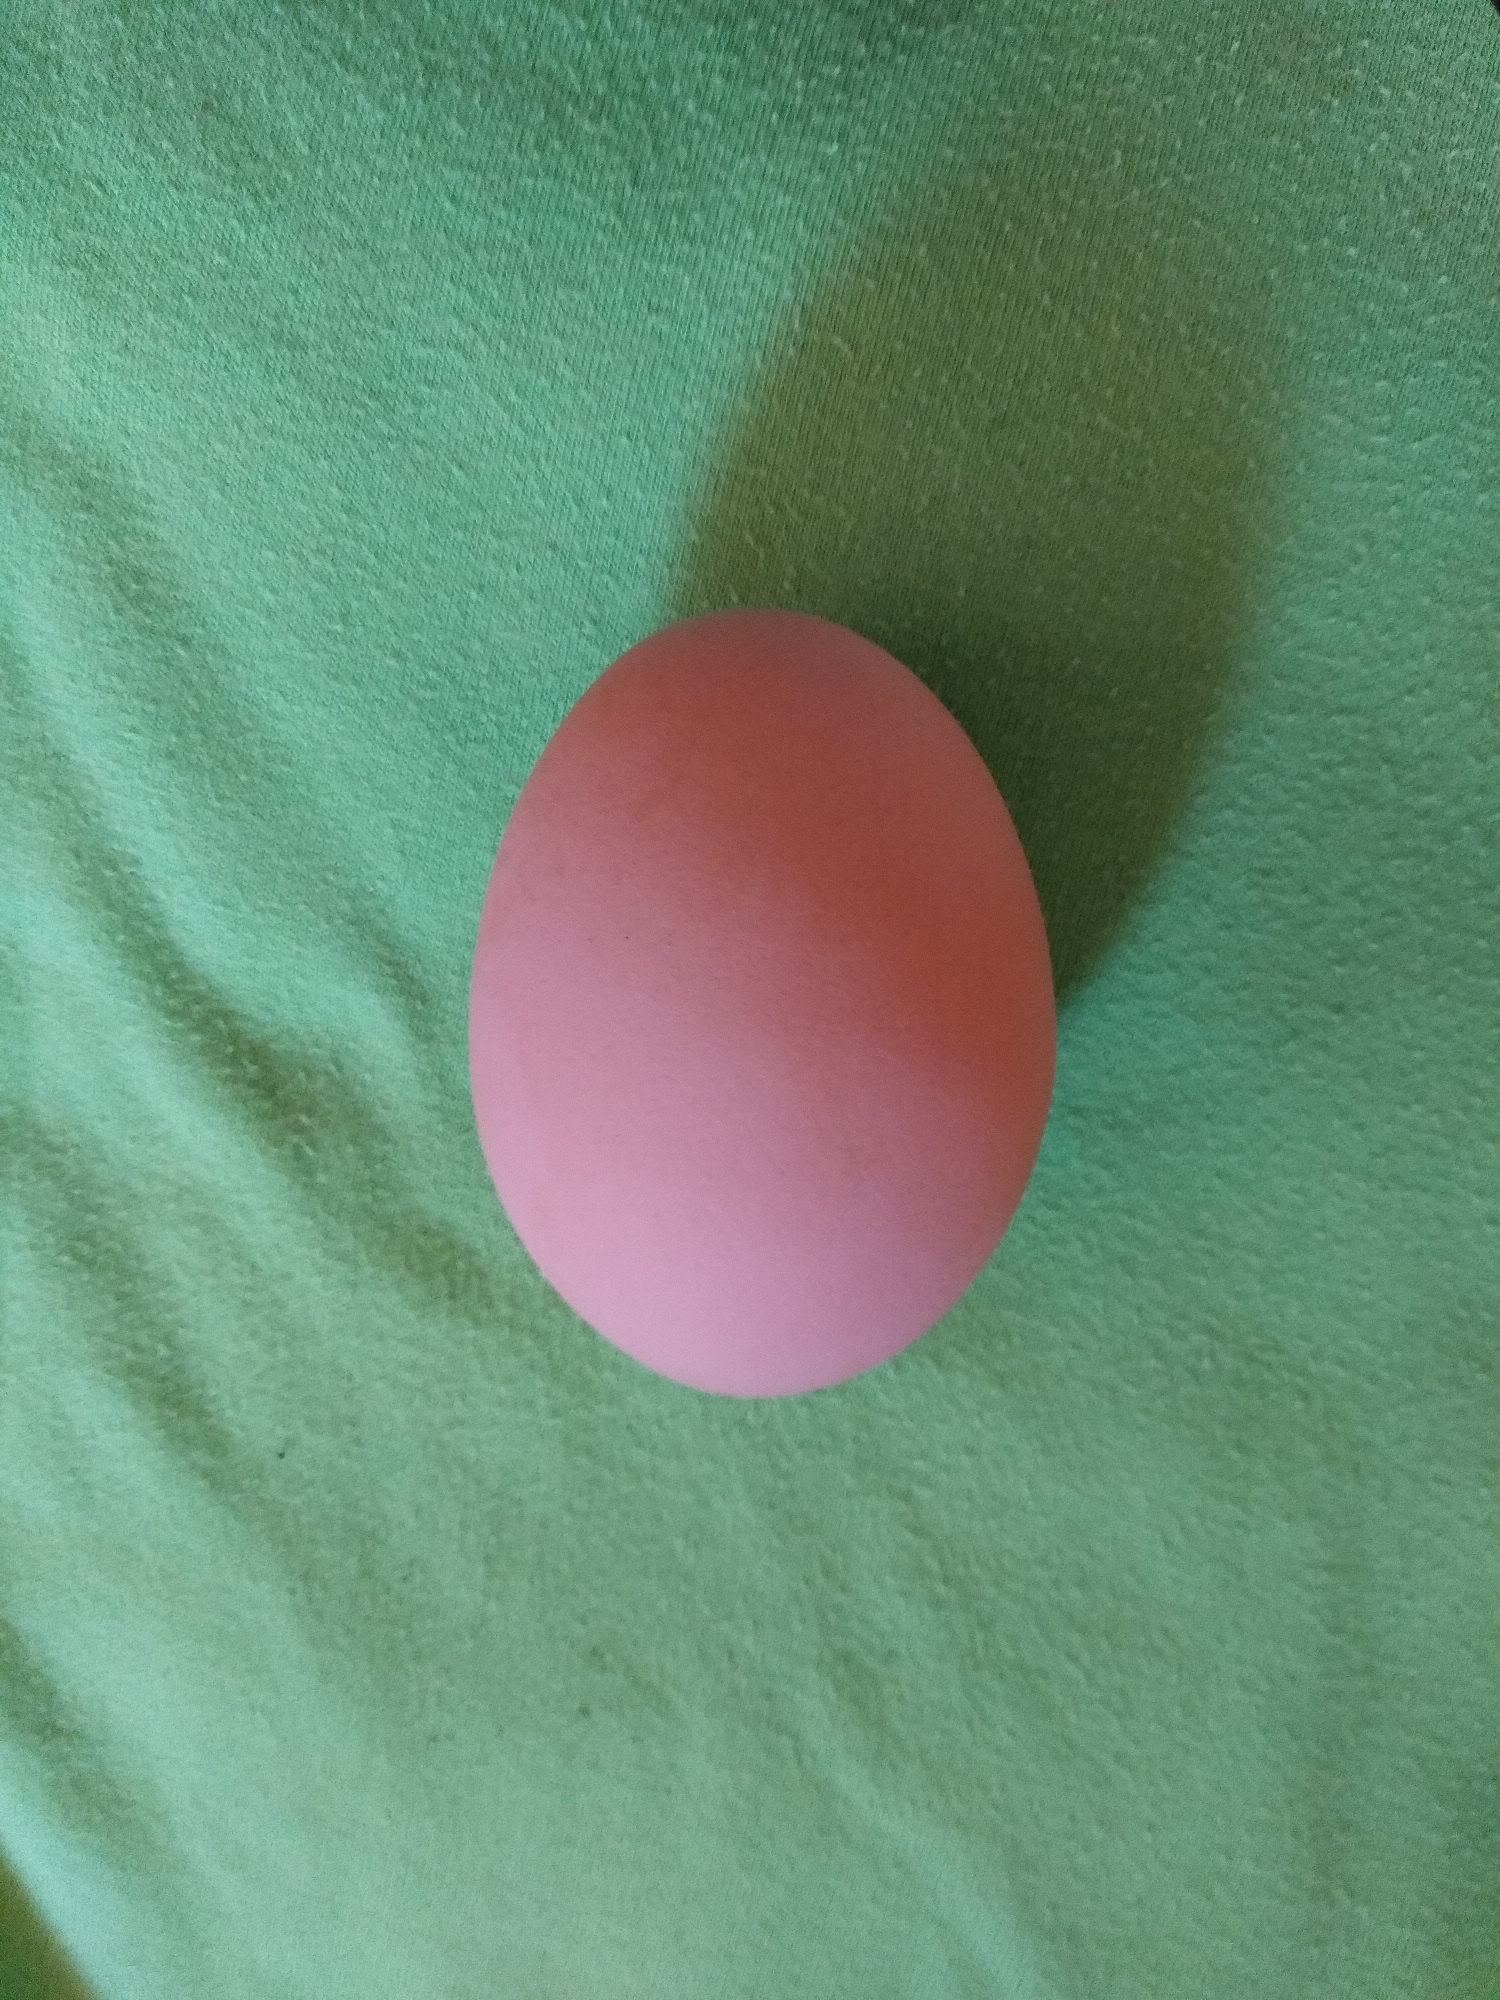Female: (455, 598, 1064, 1405)
